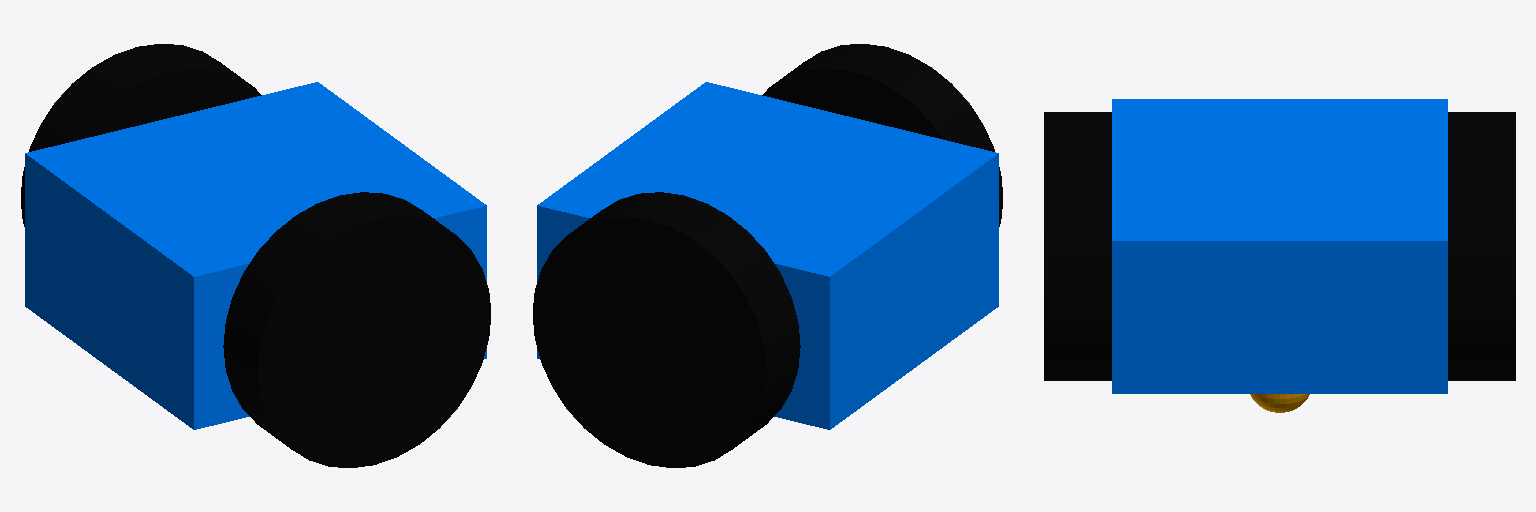
robot.urdf — dd_robot:
<?xml version='1.0'?>
<robot name="dd_robot">
	<!-- Base Link -->
	<link name="base_link">
		<visual>
			<origin xyz="0 0 0" rpy="0 0 0" />
			<geometry>
				<box size="0.5 0.5 0.25" />
			</geometry>
            <material name="blue">
                <color rgba="0 0.5 1 1"/>
            </material>
		</visual>
        
        <!-- Base Collision -->
        <collision>
            <origin xyz="0 0 0" rpy="0 0 0" />
            <geometry>
                <box size="0.5 0.5 0.25" />
            </geometry>
        </collision>
        
        <inertial>
            <mass value="5"/>
            <inertia ixx="0.13" ixy="0.0" ixz="0.0" iyy="0.21" iyz="0.0" izz="0.13"/>
        </inertial>
        
        <!-- Caster -->
        <visual name="caster">
            <origin xyz="0.2 0 -0.125" rpy="0 0 0" />
            <geometry>
                <sphere radius="0.05" />
            </geometry>
        </visual>
        
         <!-- Caster Collision -->
        <collision>
            <origin xyz="0.2 0 -0.125" rpy="0 0 0" />
            <geometry>
                <sphere radius="0.05" />
            </geometry>
        </collision>
        
        <inertial>
            <mass value="0.5"/>
            <inertia ixx="0.0001" ixy="0.0" ixz="0.0" iyy="0.0001" iyz="0.0" izz="0.0001"/>
        </inertial>
	</link>
    
    <!-- Right Wheel -->
    <link name="right_wheel">
        <visual>
            <origin xyz="0 0 0" rpy="1.570795 0 0" />
            <geometry>
                <cylinder length="0.1" radius="0.2" />
            </geometry>
            <material name="balck">
                <color rgba="0.05 0.05 0.05 1" />
            </material>
        </visual>
        
        <collision>
            <origin xyz="0 0 0" rpy="1.570795 0 0" />
            <geometry>
                <cylinder length="0.1" radius="0.2" />
            </geometry>
        </collision>
        
        <inertial>
            <mass value="0.5"/>
            <inertia ixx="0.01" ixy="0.0" ixz="0.0" iyy="0.005" iyz="0.0" izz="0.005"/>
        </inertial>
    </link>
    <joint name="joint_right_wheel" type="continuous">
        <parent link="base_link"/>
        <child link="right_wheel" />
        <origin xyz="0 -0.30 0" rpy="0 0 0" />
        <axis xyz="0 1 0" />
    </joint>
    
    <!-- Left Wheel -->
    <link name="left_wheel">
        <visual>
            <origin xyz="0 0 0" rpy="1.570795 0 0" />
            <geometry>
                <cylinder length="0.1" radius="0.2" />
            </geometry>
            <material name="balck" />
        </visual>
        
        <collision>
            <origin xyz="0 0 0" rpy="1.570795 0 0" />
            <geometry>
                <cylinder length="0.1" radius="0.2" />
            </geometry>
        </collision>
        
        <inertial>
            <mass value="0.5"/>
            <inertia ixx="0.01" ixy="0.0" ixz="0.0" iyy="0.005" iyz="0.0" izz="0.005"/>
        </inertial>
    </link>
    <joint name="joint_left_wheel" type="continuous">
        <parent link="base_link"/>
        <child link="left_wheel" />
        <origin xyz="0 0.30 0" rpy="0 0 0" />
        <axis xyz="0 1 0" />
    </joint>
</robot>

--- What the picture shows (computed from the rendered views, not written in the file) ---
3 views of the same robot in one strip: view 1: azimuth 30°, elevation 25°; view 2: azimuth 150°, elevation 25°; view 3: azimuth 270°, elevation 25° (orthographic).
Robot: dd_robot — 3 links, 2 joints (2 continuous); root link base_link; default pose: every joint at zero.
Visible links, largest first — view 1: base_link, right_wheel, left_wheel; view 2: base_link, left_wheel, right_wheel; view 3: base_link, right_wheel, left_wheel.
Link boxes in pixels (bbox=[...]): base_link: bbox=[25, 82, 486, 429]; right_wheel: bbox=[223, 192, 490, 467]; left_wheel: bbox=[21, 44, 261, 226]; base_link: bbox=[537, 82, 998, 429]; left_wheel: bbox=[533, 192, 800, 467]; right_wheel: bbox=[762, 44, 1002, 226]; base_link: bbox=[1112, 99, 1447, 412]; right_wheel: bbox=[1044, 112, 1111, 380]; left_wheel: bbox=[1448, 112, 1515, 380].
Size in the robot's own frame: 0.5 by 0.7 by 0.4 metres.
Geometry: primitives only (box / cylinder / sphere), no mesh files.